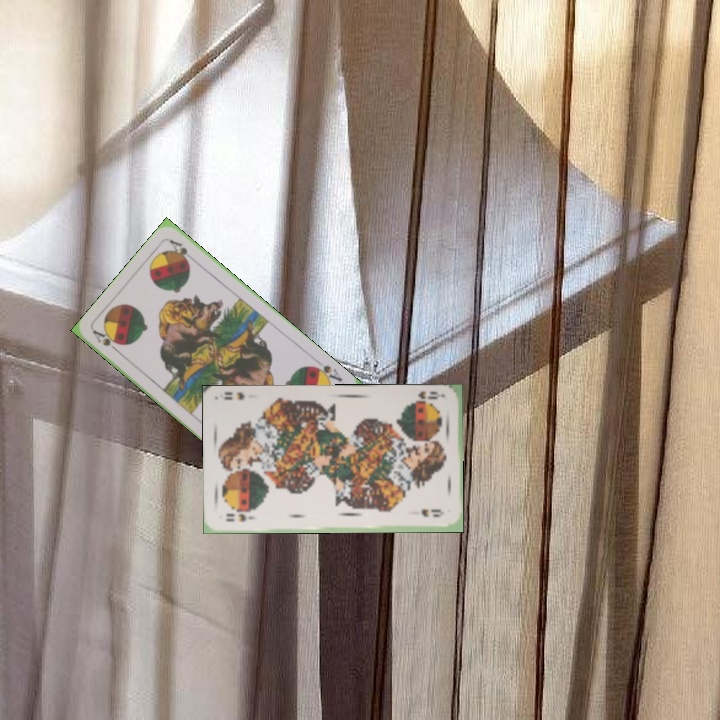SA: (89, 326, 124, 357), (307, 361, 345, 386)
SO: (406, 387, 446, 407), (222, 509, 257, 524)
